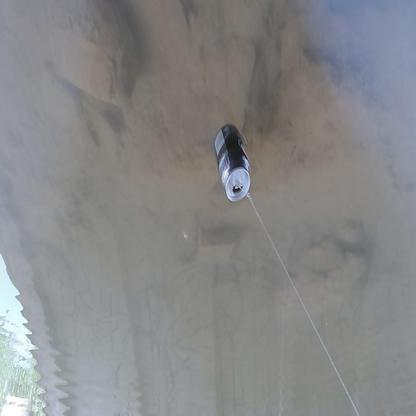can: (213, 123, 252, 204)
